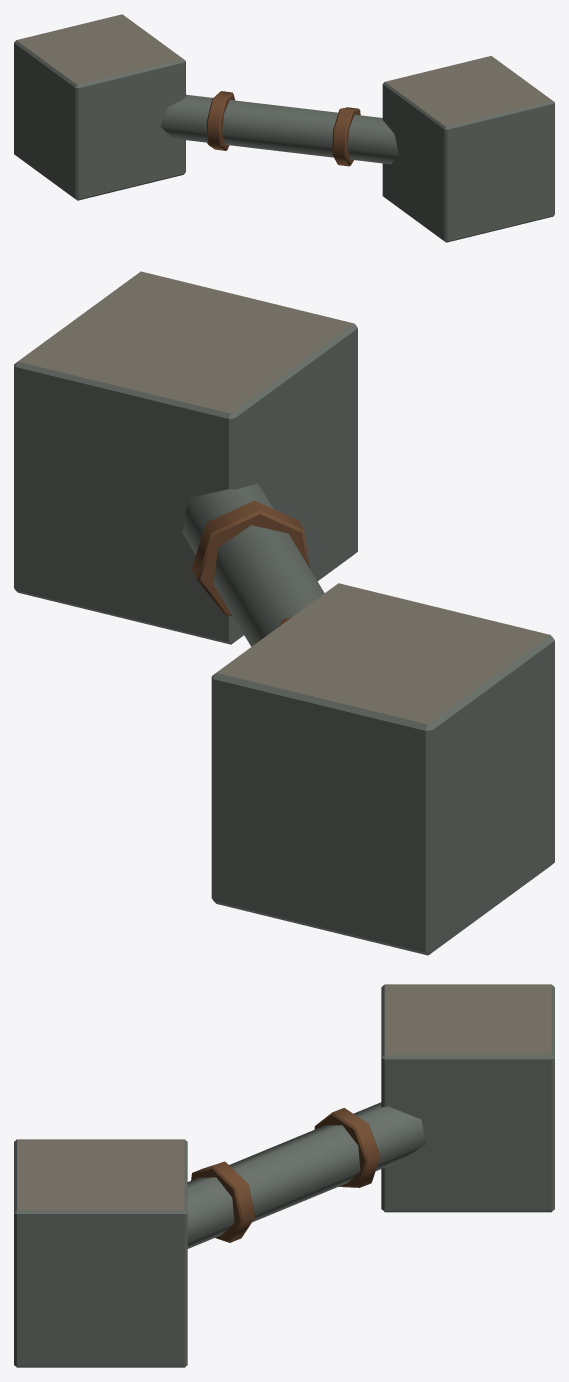
File: R4C_STRUT_DIAG_2D_LOD1.fbx
3 views of the same model, one above another, from view 1: azimuth 30°, elevation 25°; view 2: azimuth 150°, elevation 25°; view 3: azimuth 270°, elevation 25° (orthographic). The views are drawn at different scales.
Parts seen in each view (by area): view 1: R4C_STRUT_DIAG_2D_LOD1; view 2: R4C_STRUT_DIAG_2D_LOD1; view 3: R4C_STRUT_DIAG_2D_LOD1.
Boxes of the visible parts, bbox=[...] form: R4C_STRUT_DIAG_2D_LOD1: bbox=[14, 14, 554, 242]; R4C_STRUT_DIAG_2D_LOD1: bbox=[14, 271, 554, 955]; R4C_STRUT_DIAG_2D_LOD1: bbox=[14, 984, 554, 1367].
Bounding box in the file's own units: 1.62 × 0.52 × 1.62.
